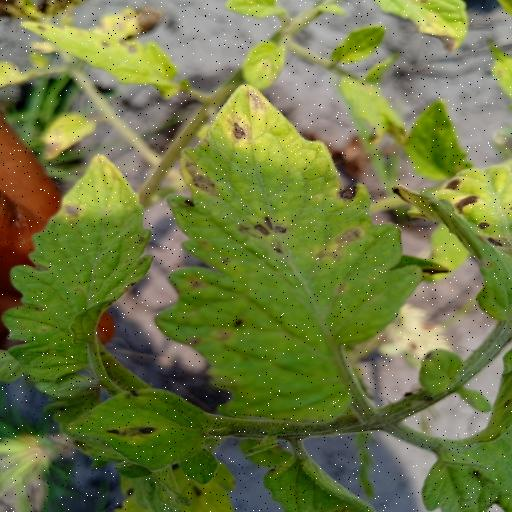Tomato_Brown_Spots: (151, 84, 429, 428)
